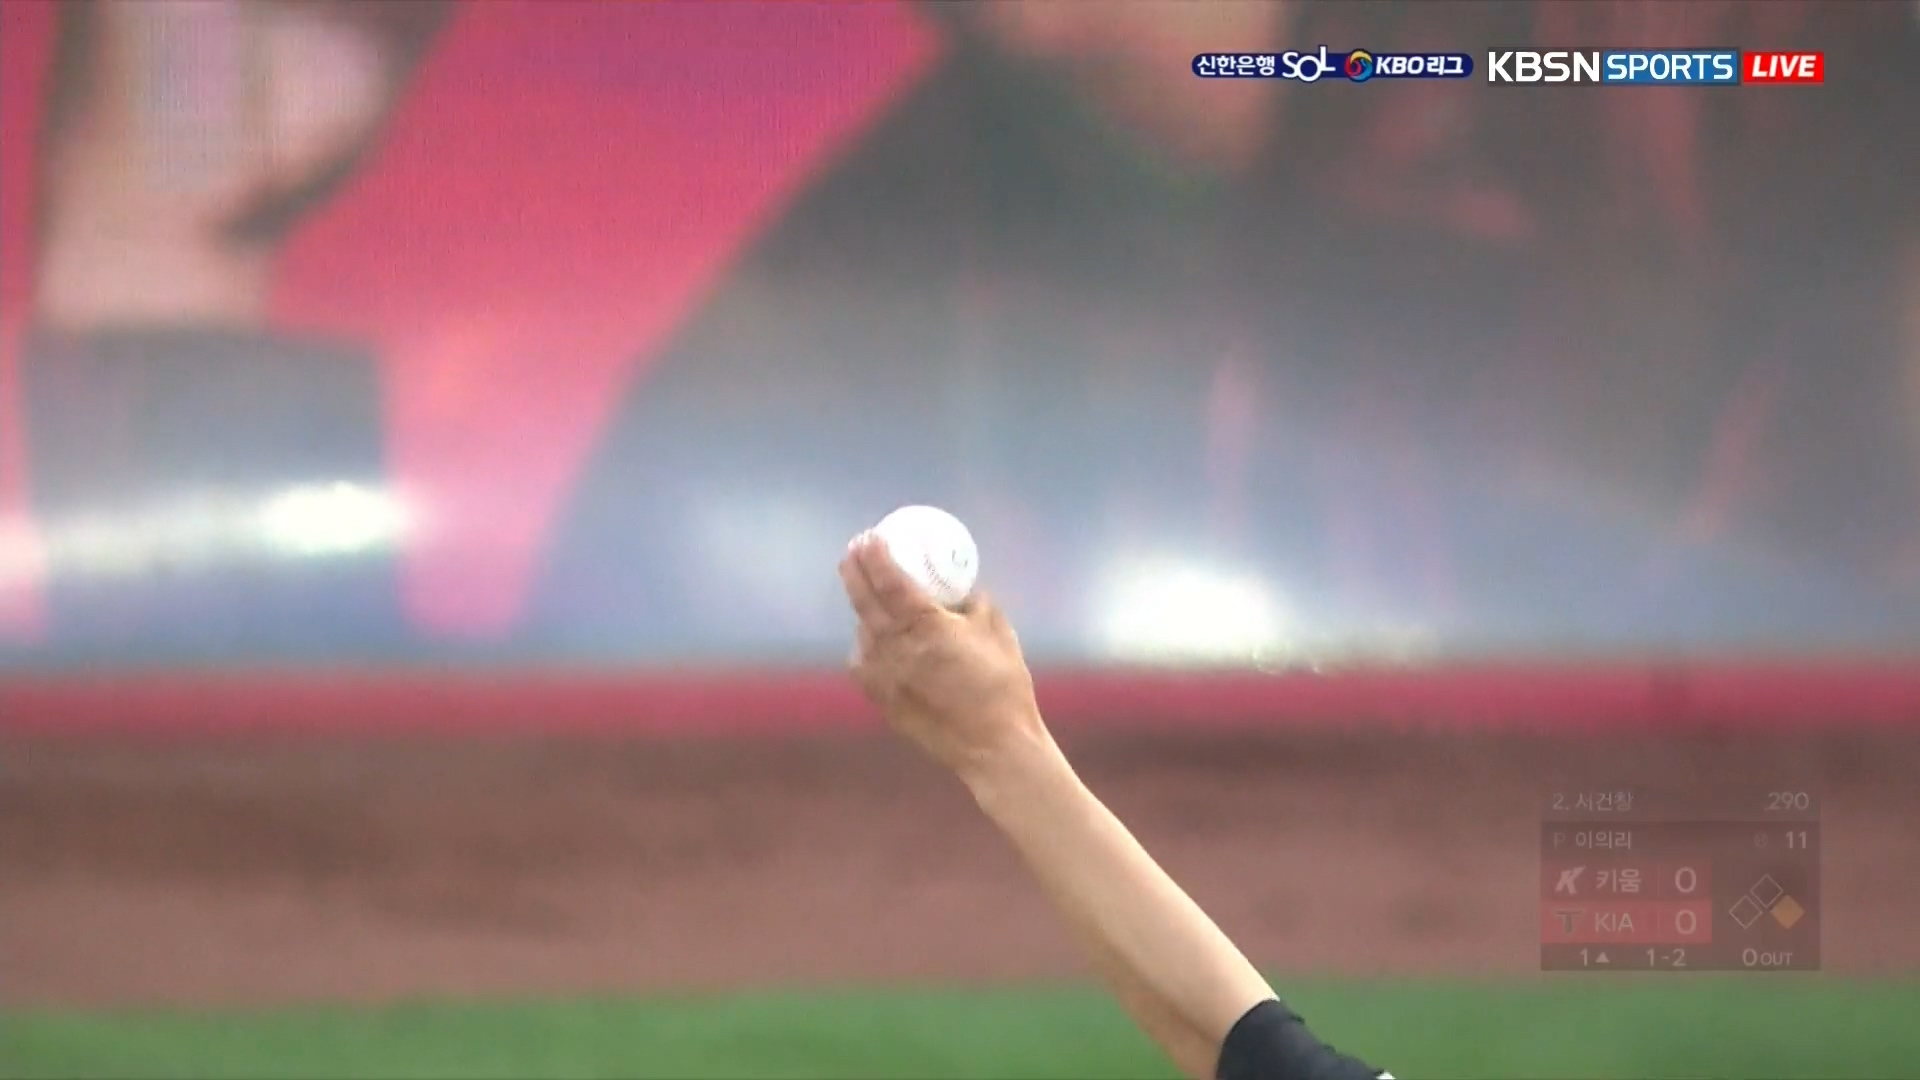zoomin_hand: (798, 476, 1309, 1077)
